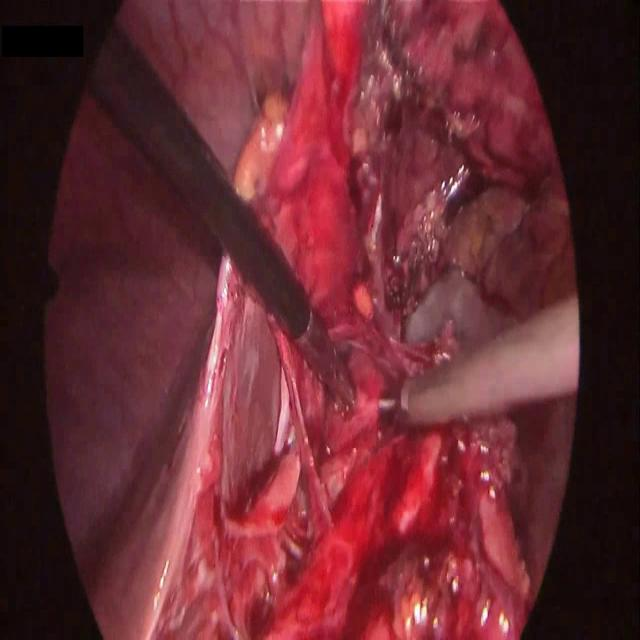surgical-area: (46, 1, 582, 639)
surgical-tool: (90, 23, 355, 412), (381, 289, 578, 428)
